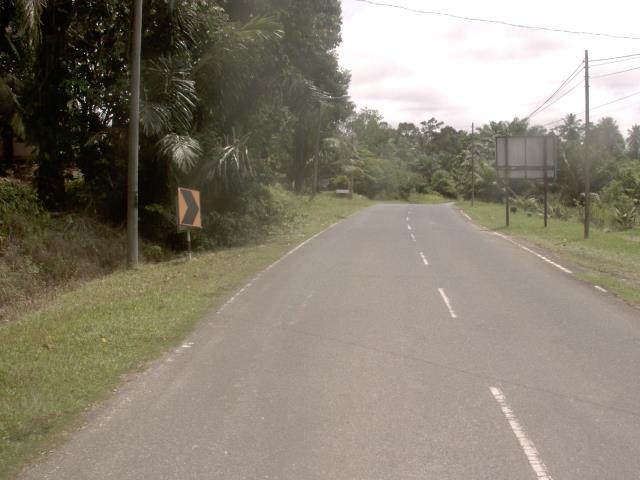traffic_sign: (169, 179, 209, 235)
